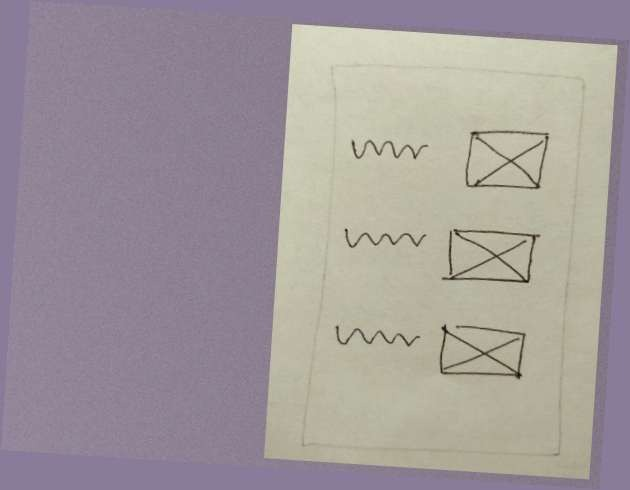image: (431, 315, 535, 397), (457, 119, 558, 201), (437, 222, 547, 293)
text: (327, 314, 424, 365), (342, 127, 434, 169), (340, 219, 432, 259)
